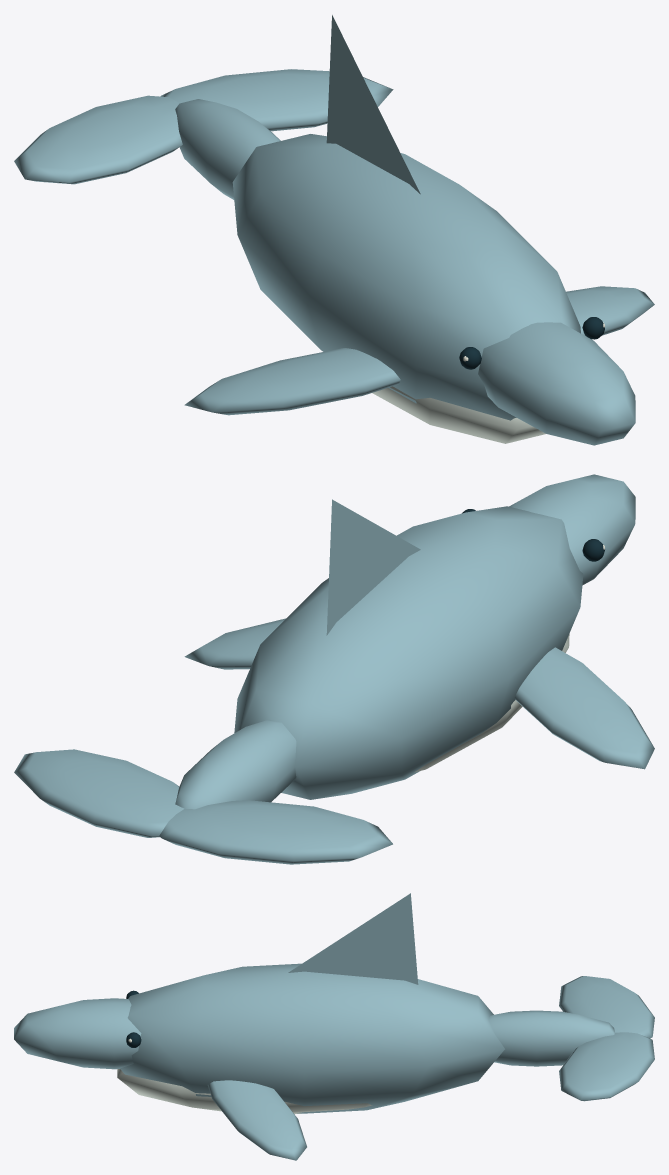
File: ocean-dolphin-2.glb
The picture shows the model from 3 angles, top to bottom: view 1: azimuth 30°, elevation 25°; view 2: azimuth 150°, elevation 25°; view 3: azimuth 270°, elevation 25°; orthographic projection. The views are drawn at different scales.
Visible parts, largest first — view 1: ocean-dolphin-2, Tail; view 2: ocean-dolphin-2, Tail; view 3: ocean-dolphin-2, Tail.
Part boxes in pixels (x1,y1,x2,y2): ocean-dolphin-2: (184, 15, 654, 445); Tail: (14, 69, 393, 199); ocean-dolphin-2: (184, 474, 654, 799); Tail: (14, 720, 392, 864); ocean-dolphin-2: (14, 893, 504, 1160); Tail: (489, 976, 654, 1101).
Size of the model in its own units: 2.09 by 1.33 by 3.64.
